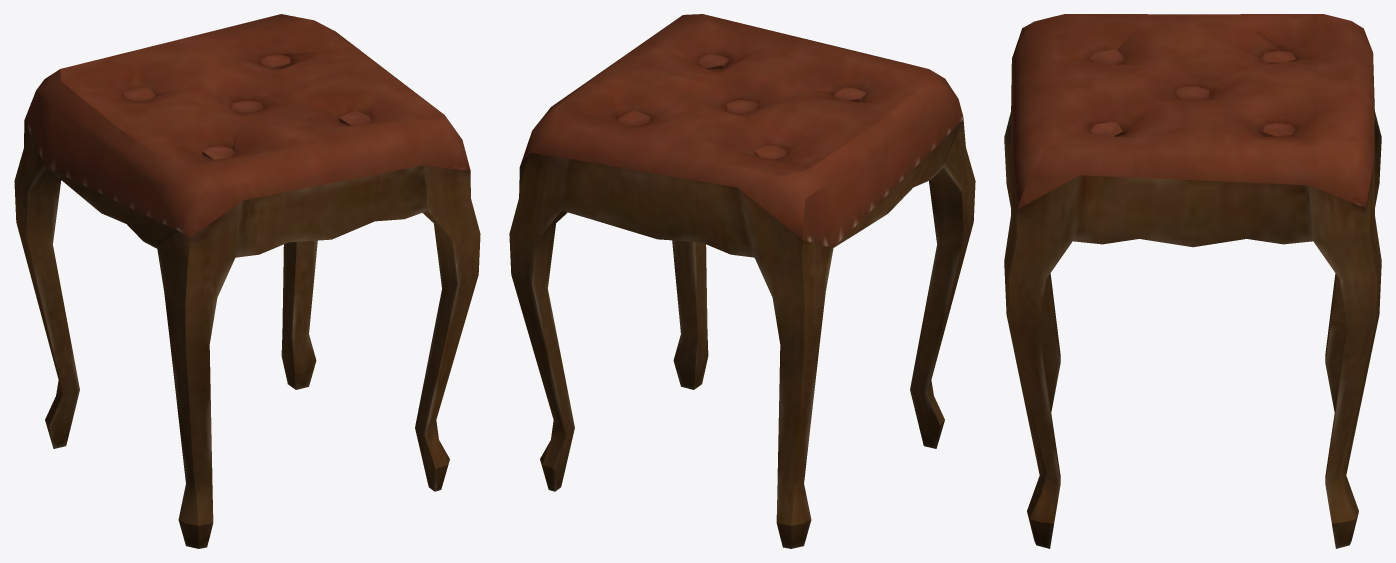
Rendered from stool-vanity.lod1.glb.
3 views of the same model, side by side, from view 1: azimuth 30°, elevation 25°; view 2: azimuth 150°, elevation 25°; view 3: azimuth 270°, elevation 25° (orthographic). The views are drawn at different scales.
Visible parts, largest first — view 1: stool-vanity; view 2: stool-vanity; view 3: stool-vanity.
Part boxes in pixels (x1,y1,x2,y2): stool-vanity: (14, 14, 480, 548); stool-vanity: (509, 14, 975, 548); stool-vanity: (1004, 14, 1381, 548).
Size of the model in its own units: 0.3358 by 0.3982 by 0.3363.
Materials: 1 (1 with a texture image).
